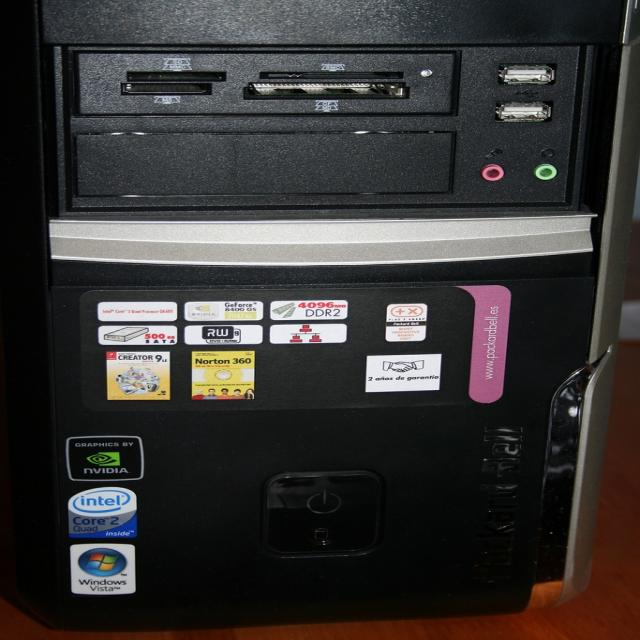nvidia: (86, 452, 120, 468)
